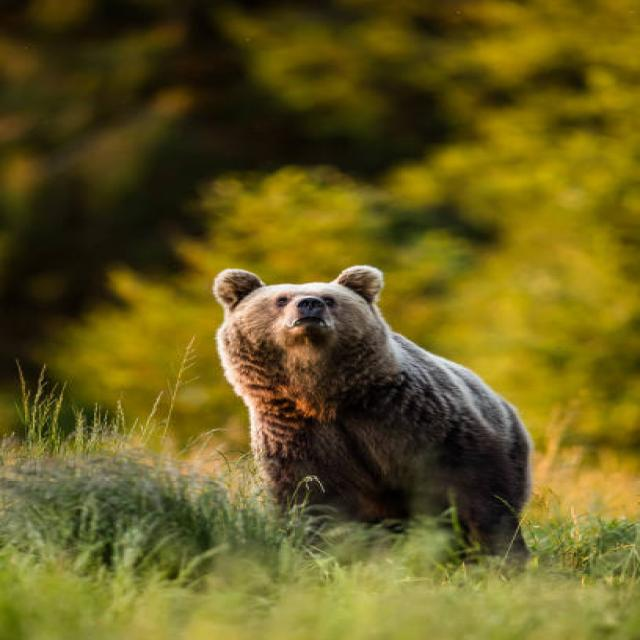Animal: (132, 232, 590, 578)
Forest: (0, 2, 640, 640)
